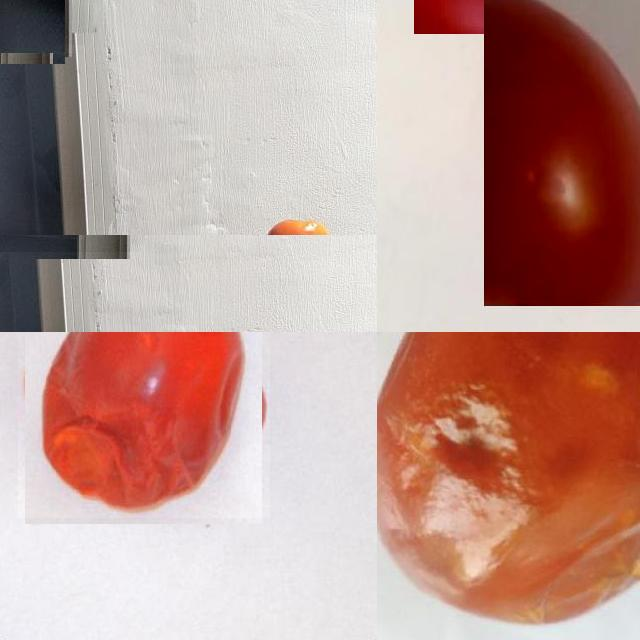Fresh Tomato: (484, 0, 640, 306), (0, 0, 74, 54)
Rotten Tomato: (377, 332, 640, 640), (18, 332, 269, 517)
